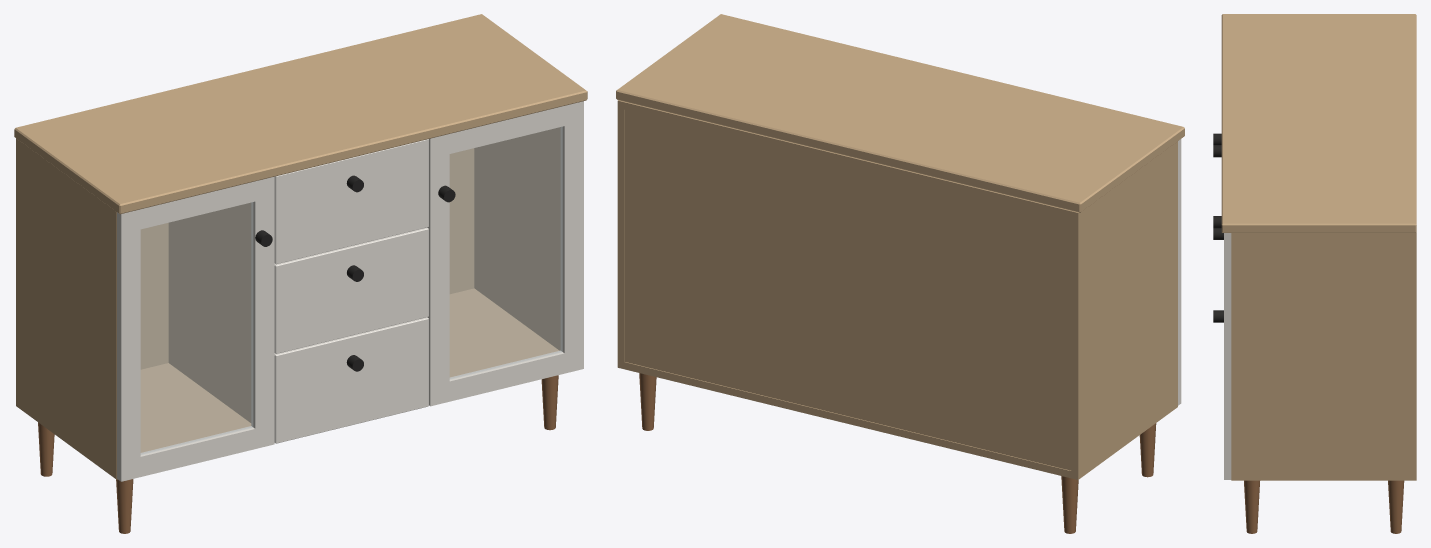
Rendered from 41_komoda_witryna_120.glb.
3 renders of one model, left to right at view 1: azimuth 30°, elevation 25°; view 2: azimuth 150°, elevation 25°; view 3: azimuth 270°, elevation 25°, orthographic. The views are drawn at different scales.
Parts seen in each view (by area): view 1: Korpus, Wierzch, Szklo_1, Szklo_5, Front_witryna_1, Front_witryna_5, Front_szuflada_4, Front_szuflada_3, Front_szuflada_2, Nogi, Uchwyty; view 2: Korpus, Wierzch, Nogi, Front_witryna_1; view 3: Korpus, Wierzch, Front_witryna_5, Nogi, Uchwyty.
Part boxes in pixels (x1=…): Korpus: x1=16, y1=127, x2=560, y2=479; Wierzch: x1=14, y1=14, x2=587, y2=214; Szklo_1: x1=141, y1=202, x2=253, y2=454; Szklo_5: x1=450, y1=127, x2=562, y2=379; Front_witryna_1: x1=117, y1=176, x2=274, y2=481; Front_witryna_5: x1=427, y1=101, x2=583, y2=406; Front_szuflada_4: x1=274, y1=317, x2=428, y2=443; Front_szuflada_3: x1=274, y1=227, x2=428, y2=353; Front_szuflada_2: x1=274, y1=139, x2=428, y2=264; Nogi: x1=38, y1=375, x2=558, y2=533; Uchwyty: x1=255, y1=175, x2=455, y2=371; Korpus: x1=617, y1=100, x2=1177, y2=479; Wierzch: x1=616, y1=14, x2=1184, y2=212; Nogi: x1=639, y1=373, x2=1156, y2=533; Front_witryna_1: x1=1178, y1=139, x2=1181, y2=405; Korpus: x1=1231, y1=232, x2=1416, y2=480; Wierzch: x1=1221, y1=14, x2=1416, y2=232; Front_witryna_5: x1=1224, y1=233, x2=1231, y2=479; Nogi: x1=1244, y1=480, x2=1404, y2=533; Uchwyty: x1=1213, y1=133, x2=1223, y2=322.
Bounding box in the file's own units: 1.21 × 0.85 × 0.494.
